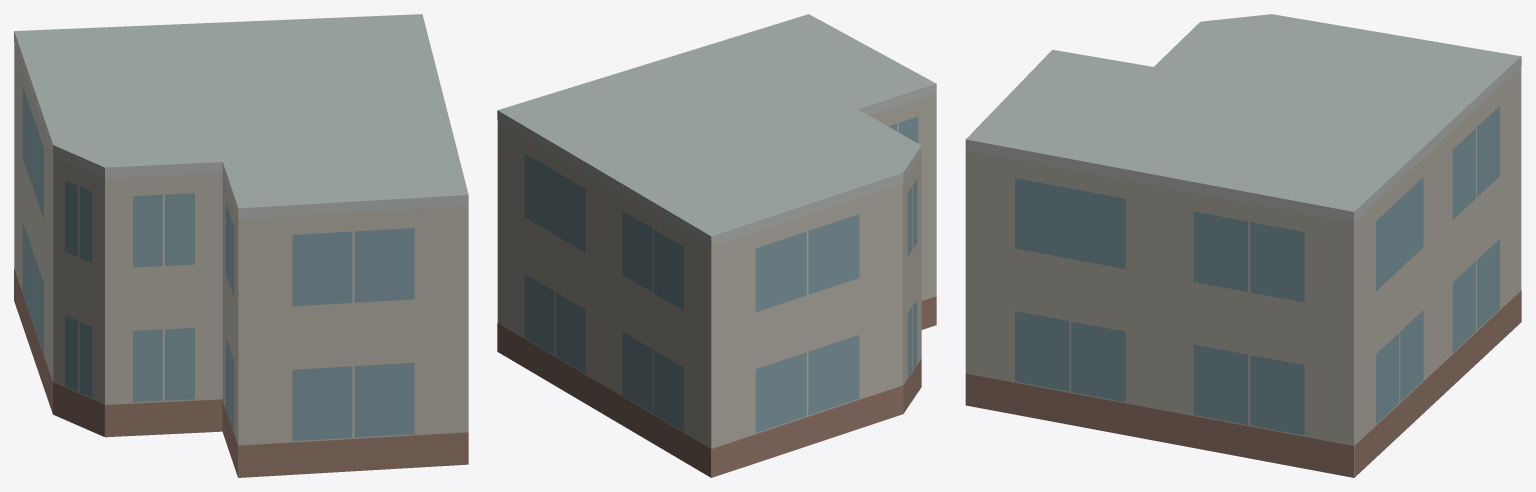
The model's file is survey-upis-32668697.glb.
3 renders of one model, left to right at view 1: azimuth 30°, elevation 25°; view 2: azimuth 150°, elevation 25°; view 3: azimuth 270°, elevation 25°, orthographic. The views are drawn at different scales.
Visible parts, largest first — view 1: survey-upis-32668697.tmp; view 2: survey-upis-32668697.tmp; view 3: survey-upis-32668697.tmp.
Boxes of the visible parts, bbox=[...] form: survey-upis-32668697.tmp: bbox=[14, 14, 468, 477]; survey-upis-32668697.tmp: bbox=[497, 14, 936, 477]; survey-upis-32668697.tmp: bbox=[965, 14, 1521, 477].
Bounding box in the file's own units: 9.75 × 6.1 × 11.56.
